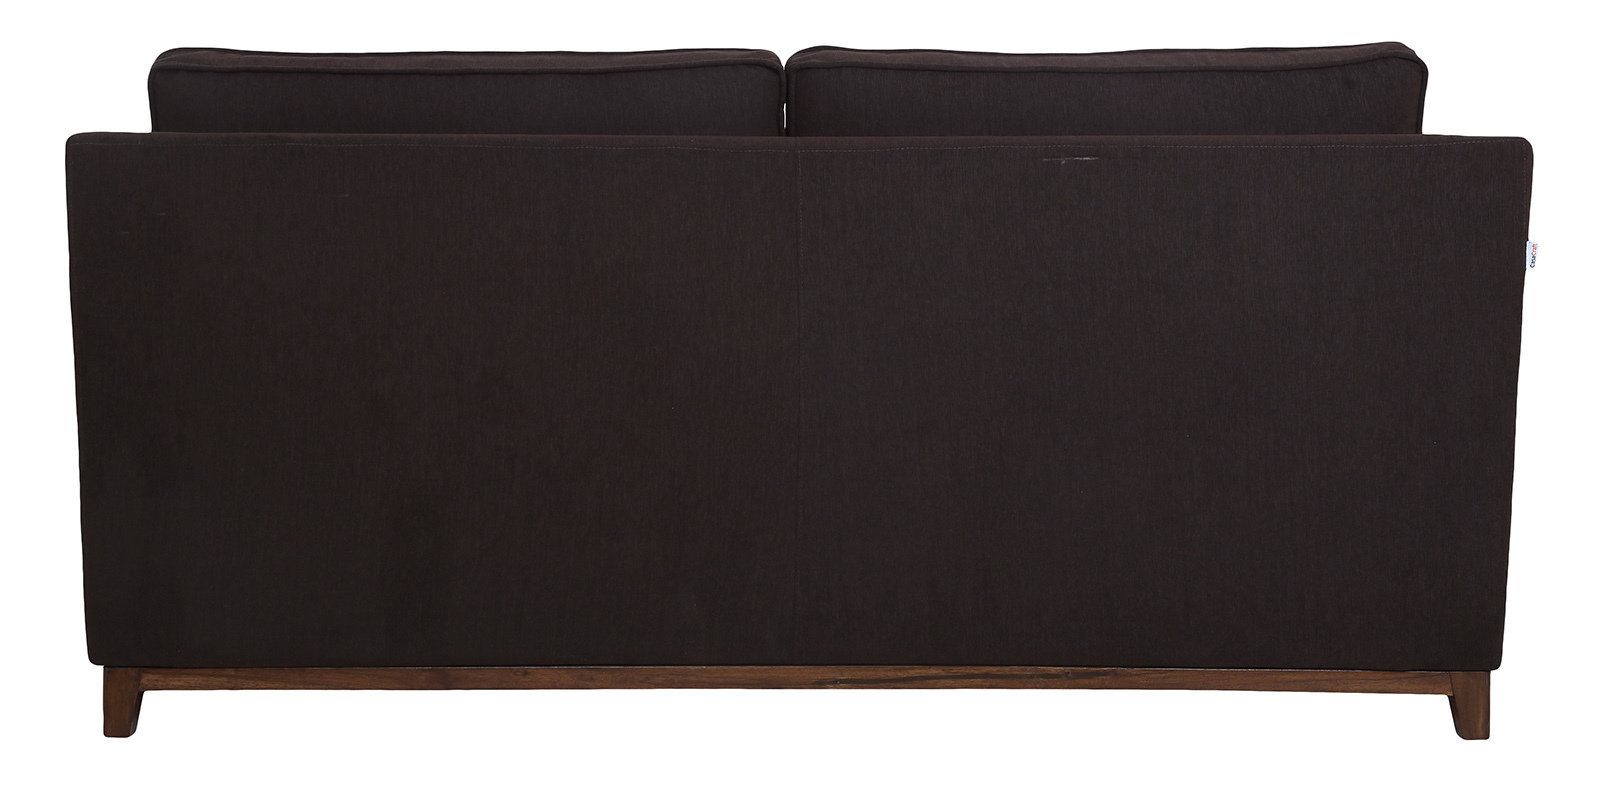Diego Three Seater Sofa in Chestnut Brown Colour by CasaCraft: (46, 41, 1534, 736)
